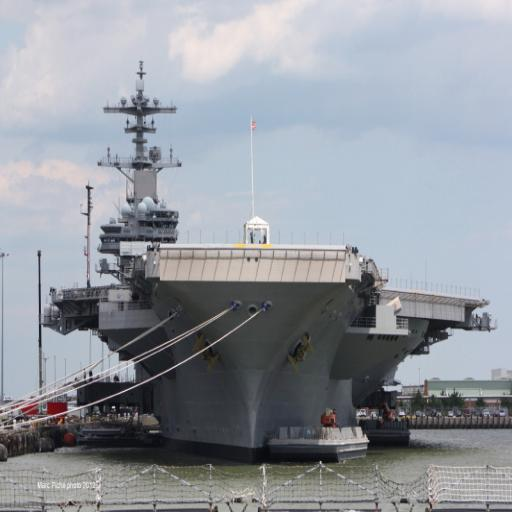Portanaves: (44, 48, 499, 456)
